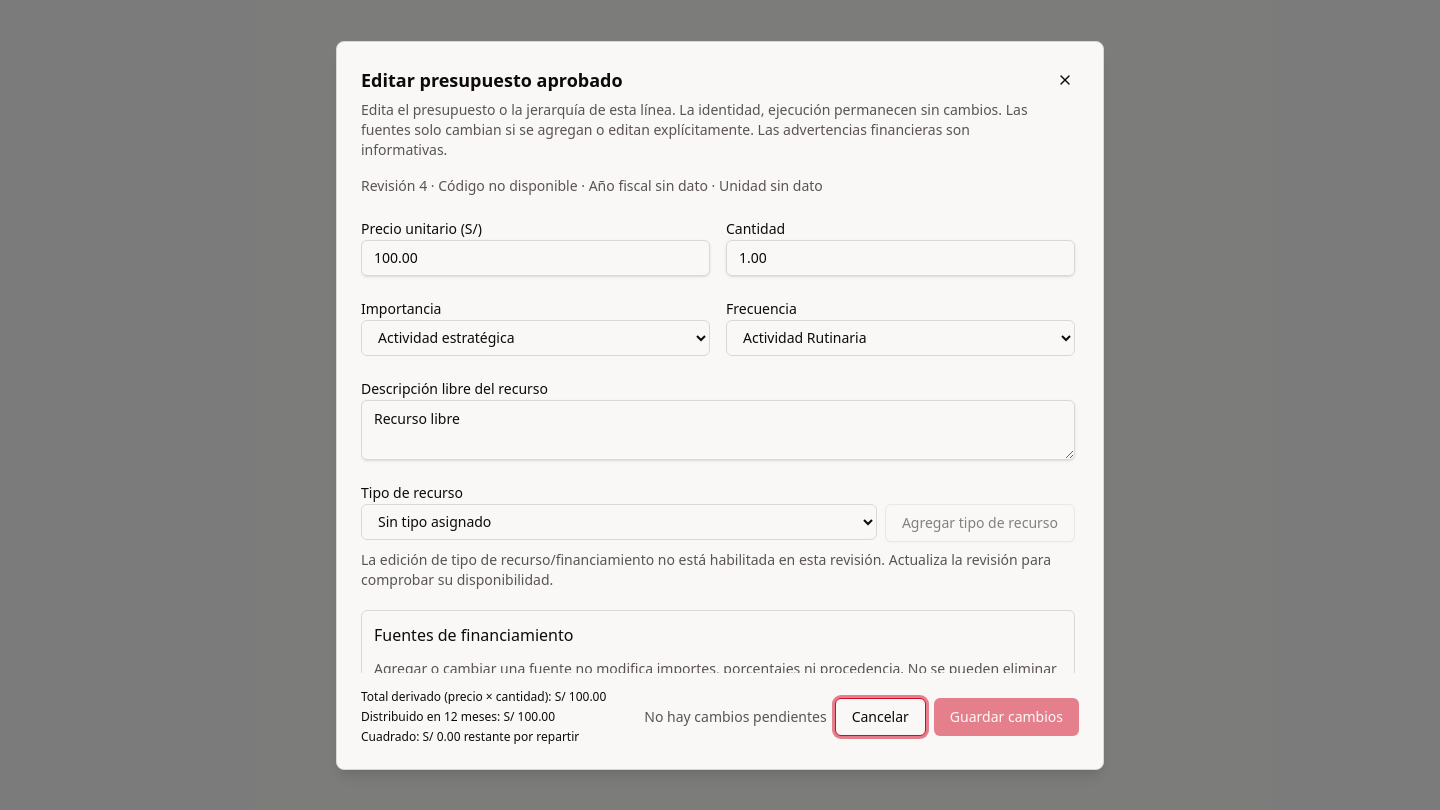
Test: approved amendment dialog › removes the helper for valid dirty finance and restores it when reverted
This screenshot has width=1440, height=810.
Expected: the text "No hay cambios pendientes" is shown, [644, 706, 827, 726]
Select "Actividad no estratégica" in the dropdown labelled "Importancia": (536, 338) [361, 320, 710, 356]
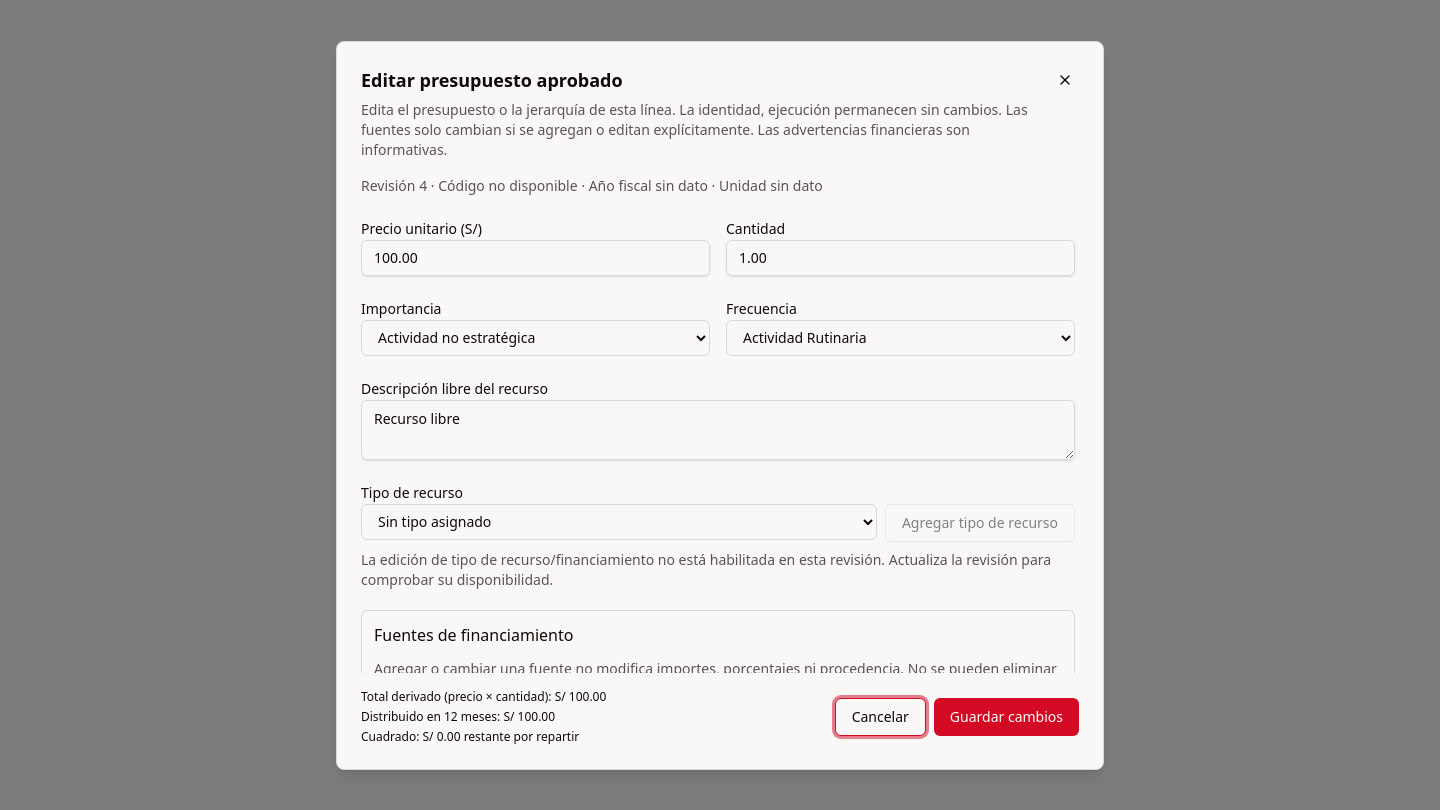
Result: the button "Guardar cambios" is enabled at [934, 698, 1079, 736]
Result: the text "No hay cambios pendientes" is gone
Select "Actividad estratégica" in the dropdown labelled "Importancia": (536, 338) [361, 320, 710, 356]
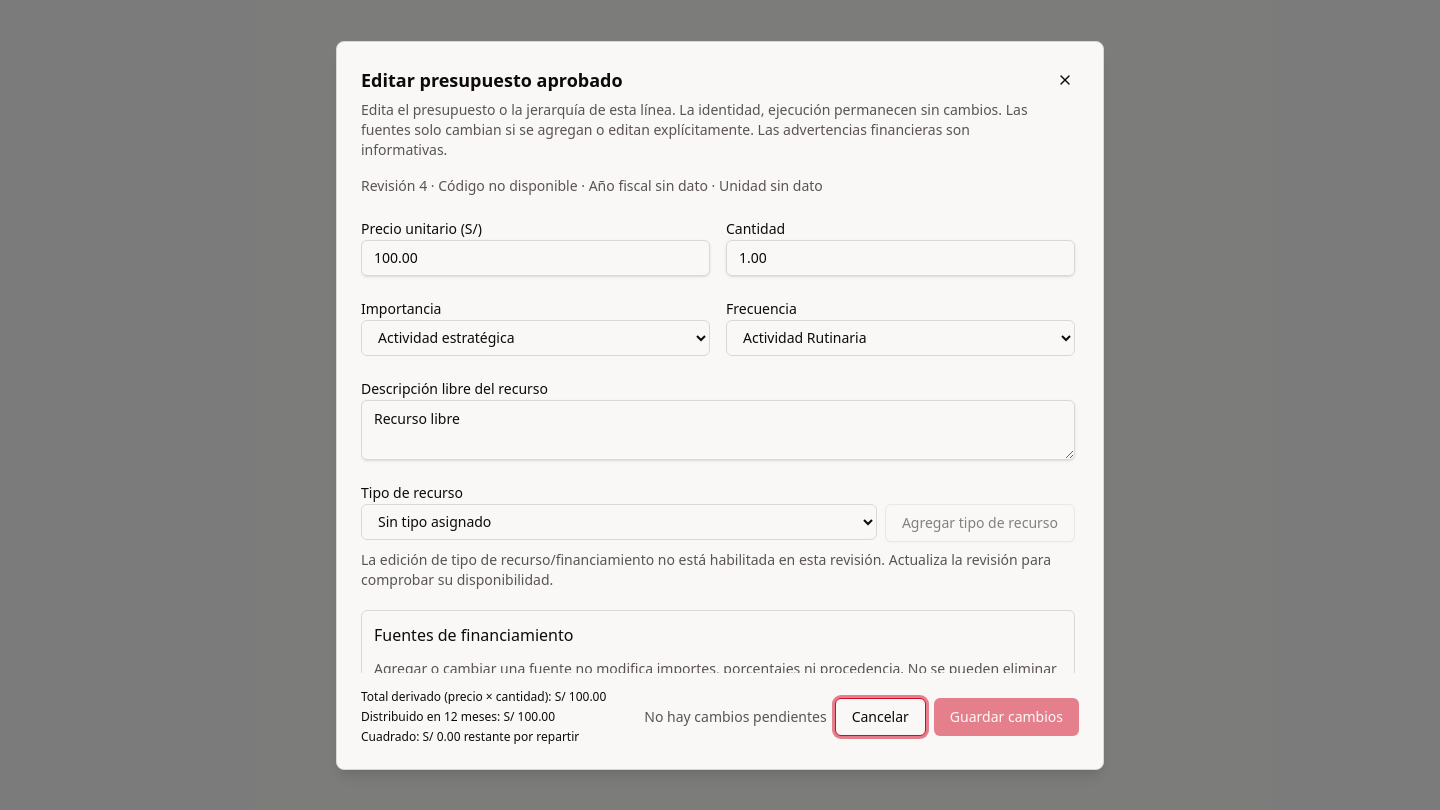
Result: the text "No hay cambios pendientes" is shown at [644, 706, 827, 726]
Result: the button "Guardar cambios" is disabled at [934, 698, 1079, 736]
